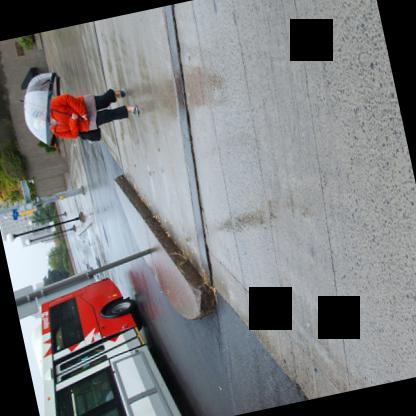handbag: (77, 125, 101, 140)
